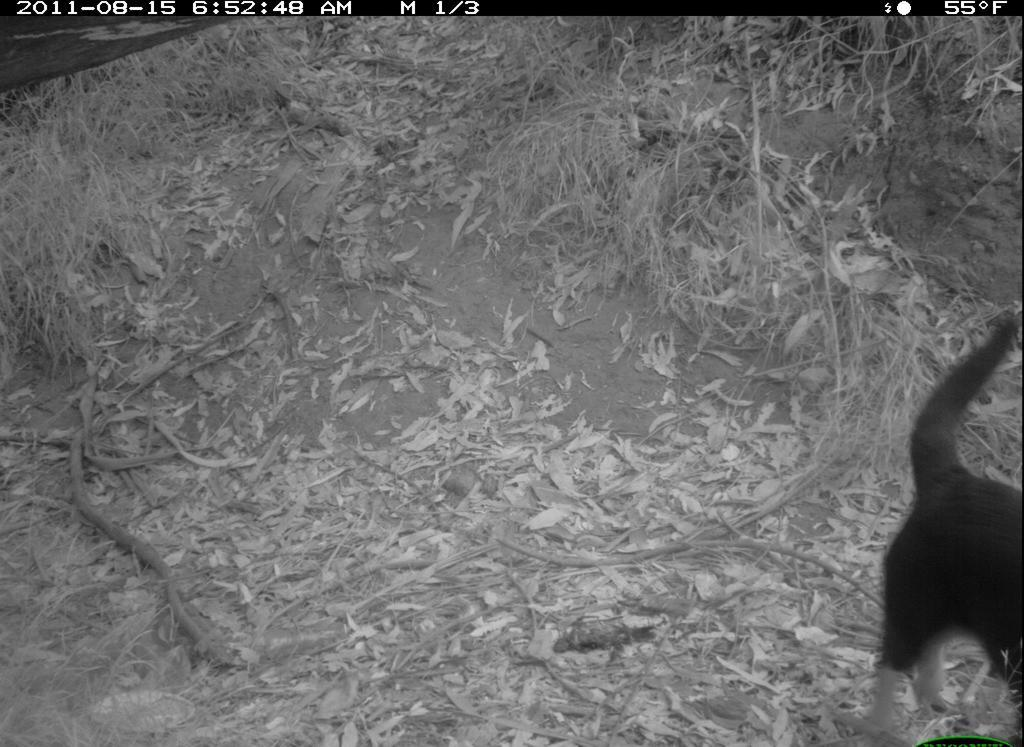dog: (863, 304, 1022, 743)
